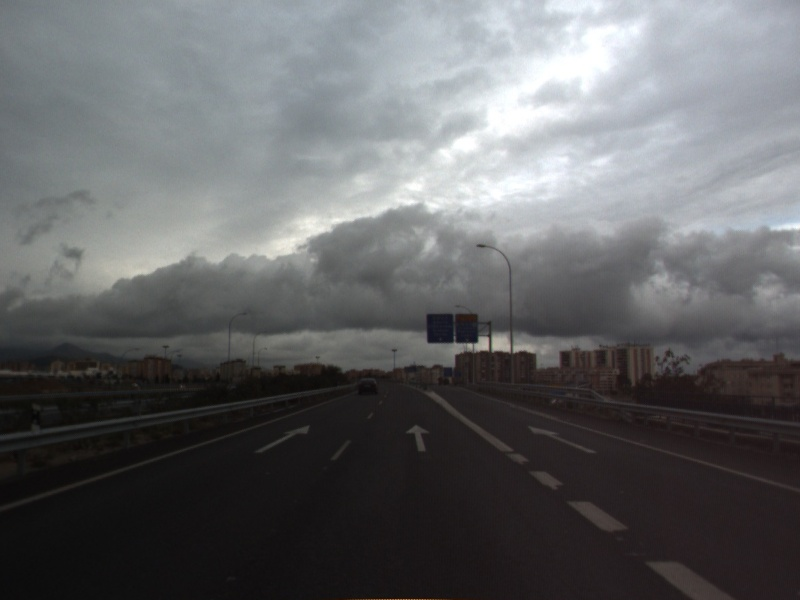STRAIGHT: (526, 423, 599, 455), (252, 423, 312, 455), (403, 423, 432, 454)
